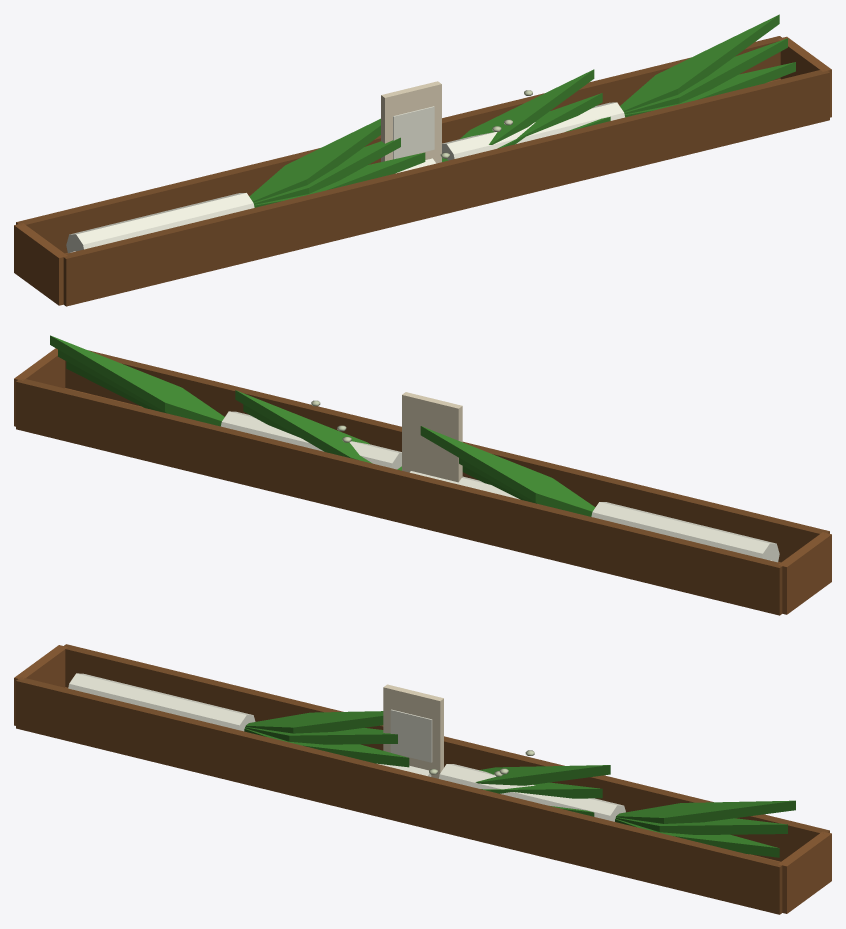
File: Veg_Leek.fbx
3 views of the same model, one above another, from view 1: azimuth 30°, elevation 25°; view 2: azimuth 150°, elevation 25°; view 3: azimuth 330°, elevation 25° (orthographic).
Parts seen in each view (by area): view 1: Veg_Leek__Stack, Veg_Leek__Seed, Veg_Leek; view 2: Veg_Leek__Stack, Veg_Leek__Seed, Veg_Leek; view 3: Veg_Leek__Stack, Veg_Leek__Seed, Veg_Leek.
Boxes of the visible parts, bbox=[...] form: Veg_Leek__Stack: bbox=[14, 14, 831, 306]; Veg_Leek__Seed: bbox=[381, 81, 441, 163]; Veg_Leek: bbox=[396, 69, 610, 173]; Veg_Leek__Stack: bbox=[14, 335, 831, 615]; Veg_Leek__Seed: bbox=[402, 392, 462, 482]; Veg_Leek: bbox=[235, 390, 519, 499]; Veg_Leek__Stack: bbox=[14, 644, 831, 914]; Veg_Leek__Seed: bbox=[383, 684, 443, 778]; Veg_Leek: bbox=[377, 763, 610, 816].
Size of the model in its own units: 0.6797 by 0.09 by 0.0766.
